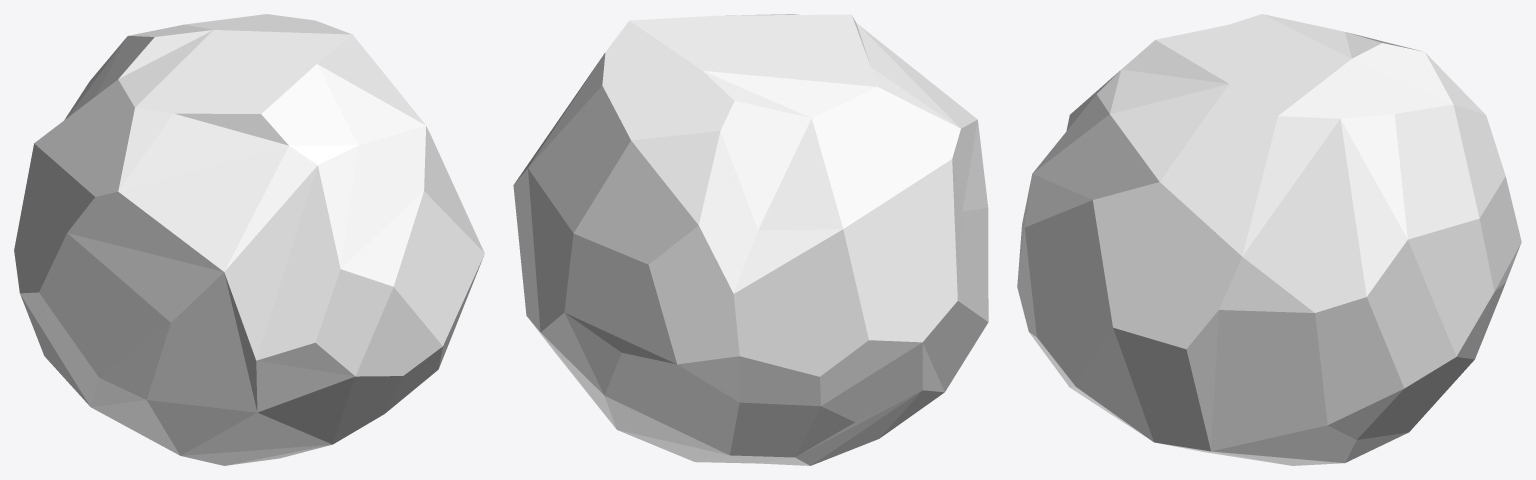
File: SnowyPlanetoid.fbx
3 views of the same model, side by side, from view 1: azimuth 30°, elevation 25°; view 2: azimuth 150°, elevation 25°; view 3: azimuth 270°, elevation 25° (orthographic). The views are drawn at different scales.
Parts seen in each view (by area): view 1: SnowyPlanetoid; view 2: SnowyPlanetoid; view 3: SnowyPlanetoid.
Boxes of the visible parts, x1,y1,x2,y2 form: SnowyPlanetoid: [14, 14, 484, 465]; SnowyPlanetoid: [513, 14, 988, 465]; SnowyPlanetoid: [1017, 14, 1521, 465].
Size of the model in its own units: 2090 by 1977 by 2274.
